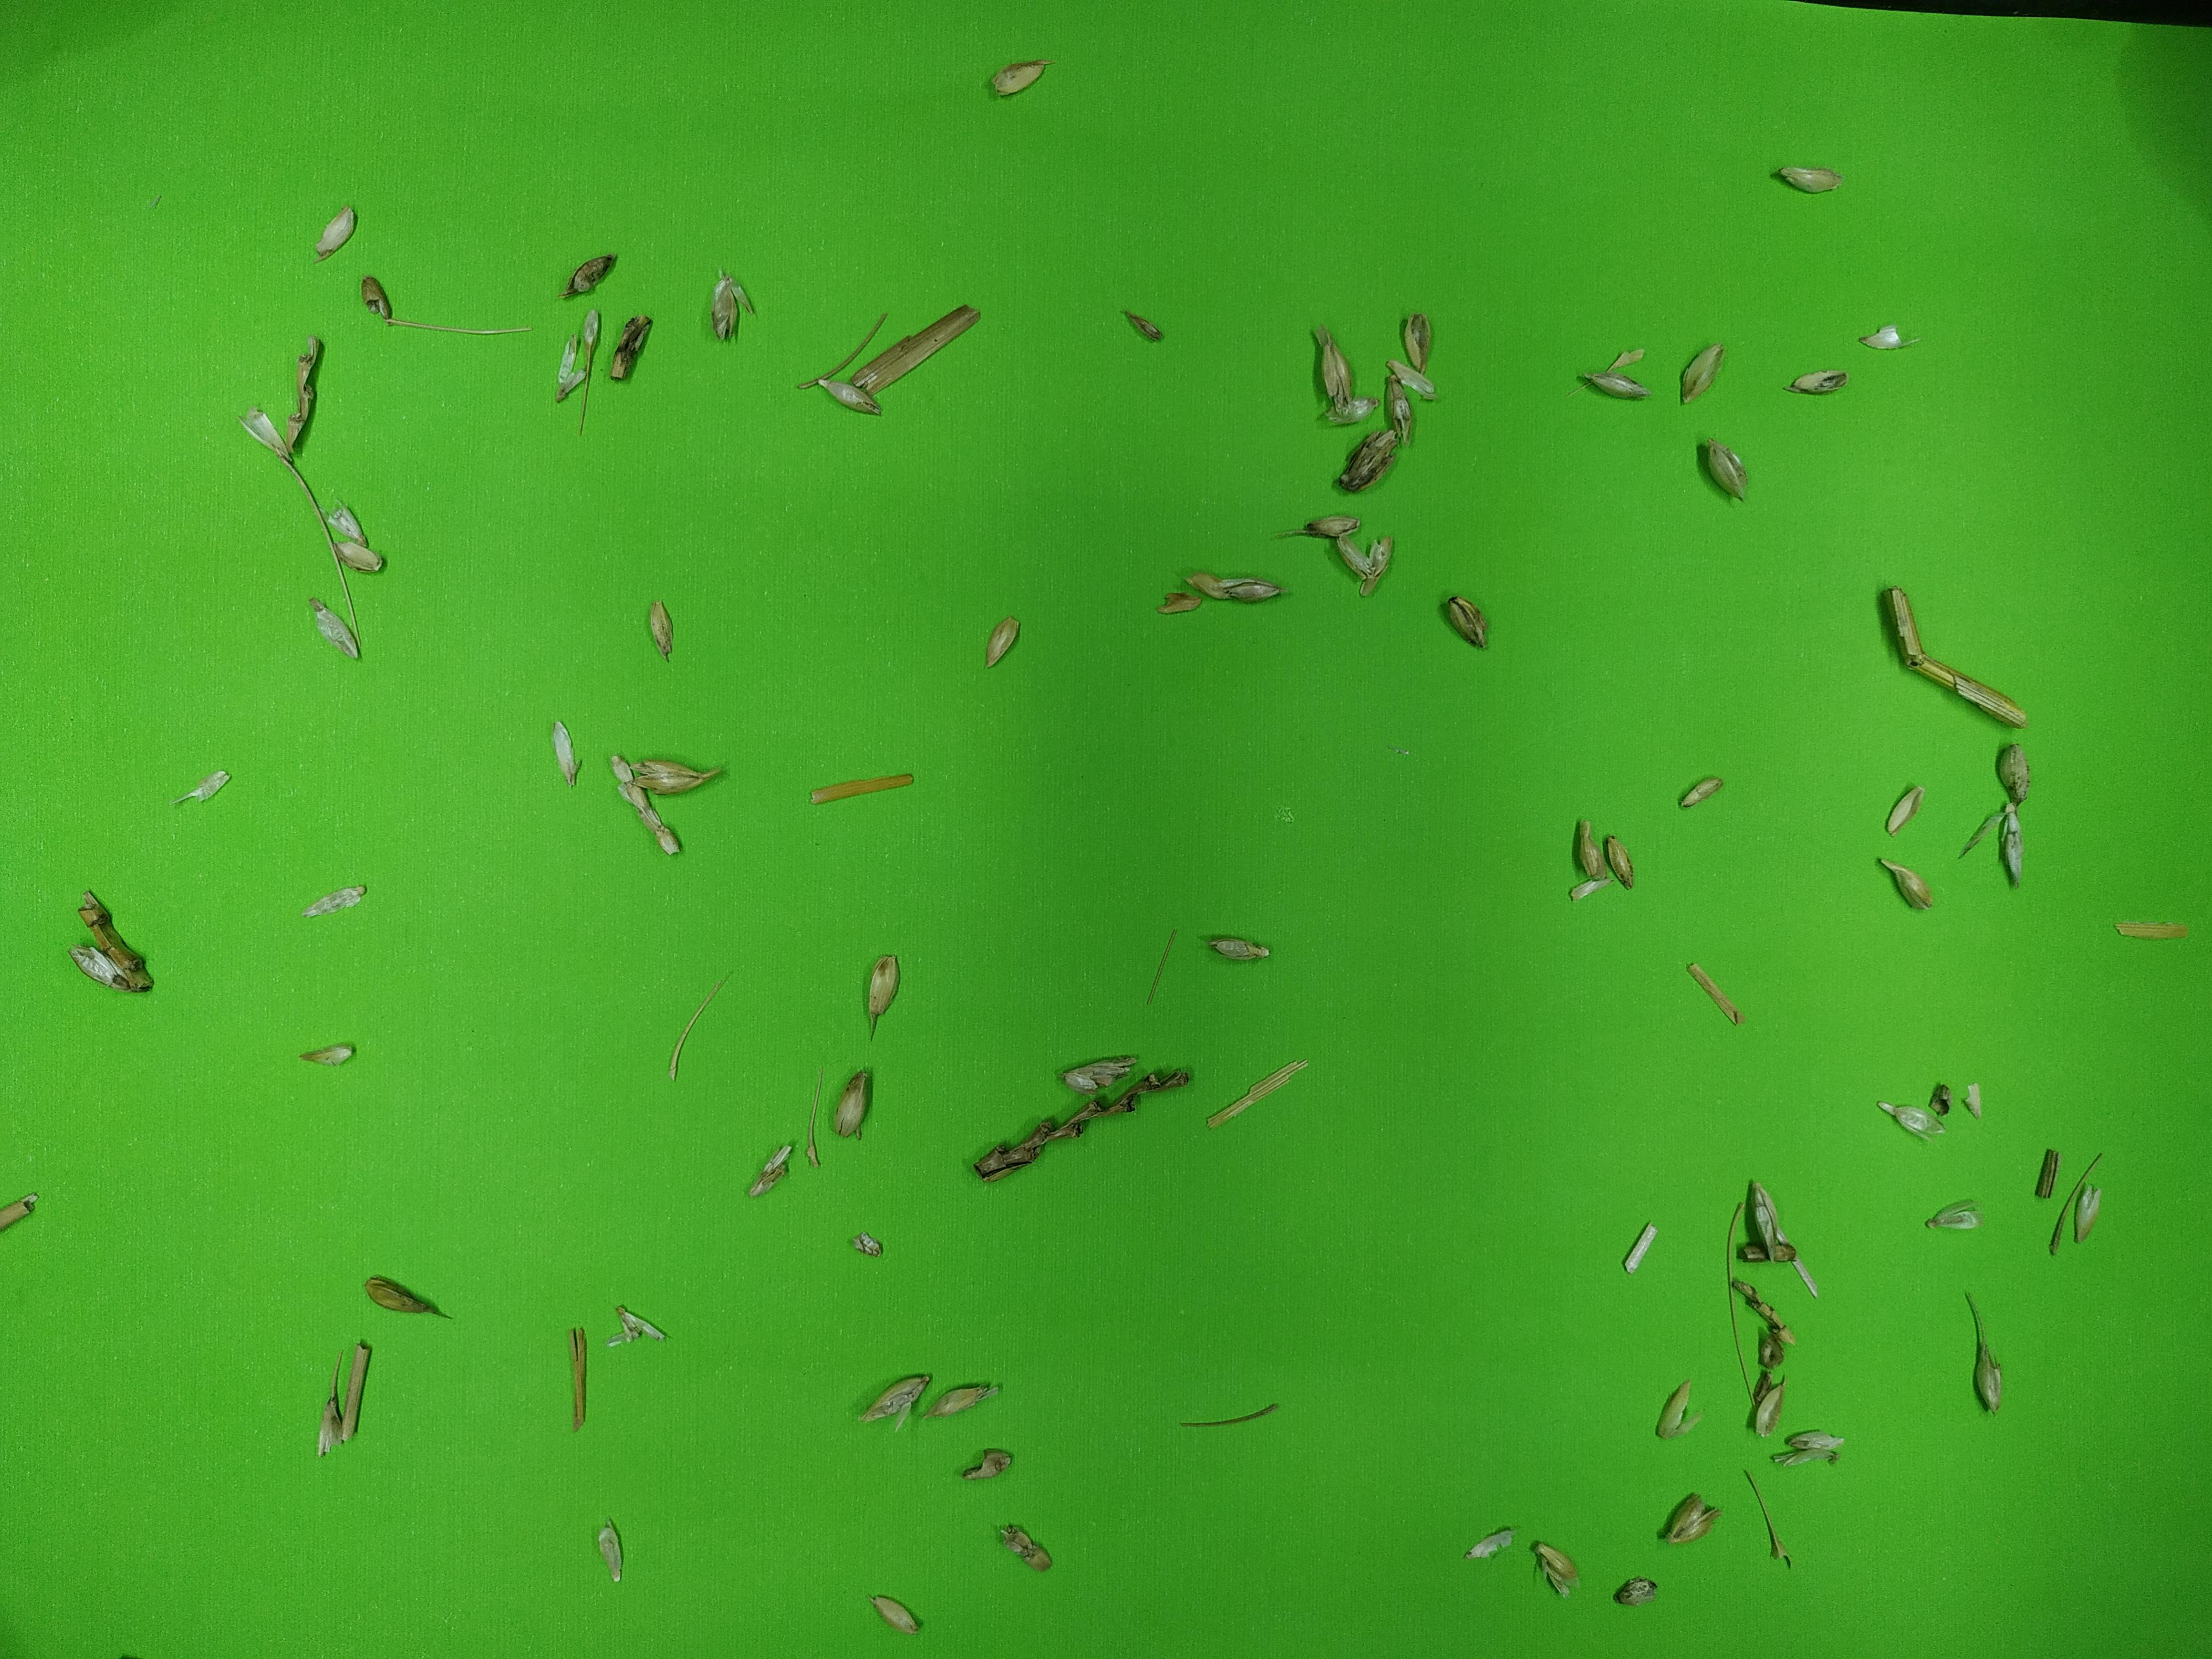impureza: (975, 1061, 1193, 1182), (1872, 584, 2029, 728), (850, 300, 991, 389), (64, 885, 158, 999), (657, 960, 733, 1089), (604, 748, 685, 863), (1209, 1056, 1315, 1133), (1728, 1270, 1794, 1373), (794, 312, 883, 387), (1731, 1175, 1801, 1269), (1735, 1469, 1796, 1572), (1956, 1284, 2003, 1415), (1179, 561, 1291, 612), (989, 1514, 1064, 1589), (1865, 845, 1942, 918), (355, 1270, 458, 1324), (801, 762, 921, 807), (287, 326, 329, 455), (2054, 1150, 2102, 1258), (1055, 1046, 1146, 1103), (702, 263, 761, 349), (1338, 427, 1407, 497), (1684, 957, 1749, 1030), (1329, 533, 1399, 598), (561, 1317, 596, 1445), (636, 749, 733, 795), (1527, 1530, 1585, 1607), (859, 1371, 937, 1427), (1757, 152, 1848, 199), (1691, 430, 1747, 505), (303, 591, 366, 657), (341, 1337, 380, 1445), (857, 951, 906, 1035), (1676, 335, 1724, 416), (585, 1513, 634, 1595), (608, 308, 658, 387), (1653, 1373, 1707, 1446), (556, 307, 599, 397), (1874, 1100, 1954, 1148), (1656, 1486, 1717, 1549), (1578, 362, 1656, 411), (291, 873, 368, 922), (1177, 1401, 1278, 1438), (833, 1063, 881, 1138), (1308, 322, 1353, 403), (925, 1375, 1005, 1420), (312, 1377, 352, 1466), (599, 1303, 676, 1349), (1444, 591, 1500, 652), (981, 56, 1055, 101), (1383, 352, 1449, 403), (232, 404, 289, 462), (1916, 1194, 1994, 1236), (1879, 777, 1930, 842), (639, 592, 685, 664), (547, 711, 592, 782), (1463, 1516, 1529, 1565), (1275, 509, 1362, 545), (1379, 376, 1425, 446), (1568, 817, 1609, 892), (1998, 795, 2031, 889), (813, 373, 885, 416), (563, 249, 620, 303), (315, 199, 361, 267), (749, 1131, 792, 1201), (174, 760, 239, 807), (1402, 300, 1442, 375), (1198, 932, 1280, 969), (1143, 927, 1176, 1014), (2106, 917, 2198, 946), (1620, 1215, 1663, 1276), (1601, 828, 1641, 894), (385, 321, 535, 338), (312, 495, 369, 540), (801, 1063, 824, 1178), (1315, 390, 1385, 427), (1956, 802, 2000, 859), (1785, 366, 1853, 403), (1994, 739, 2033, 803), (873, 1589, 923, 1638), (1785, 1424, 1858, 1455), (2073, 1176, 2104, 1249), (2031, 1138, 2064, 1206), (331, 535, 388, 573), (982, 613, 1024, 666), (357, 272, 395, 328), (1120, 305, 1172, 345), (291, 1040, 355, 1070), (1764, 1443, 1822, 1476), (1954, 1077, 1994, 1124), (1791, 1248, 1824, 1302), (1611, 1574, 1663, 1607), (1858, 322, 1916, 352), (1157, 587, 1204, 620), (1676, 777, 1726, 807), (970, 1446, 1012, 1481), (850, 1229, 887, 1262), (1608, 342, 1644, 373), (1925, 1075, 1951, 1119)
